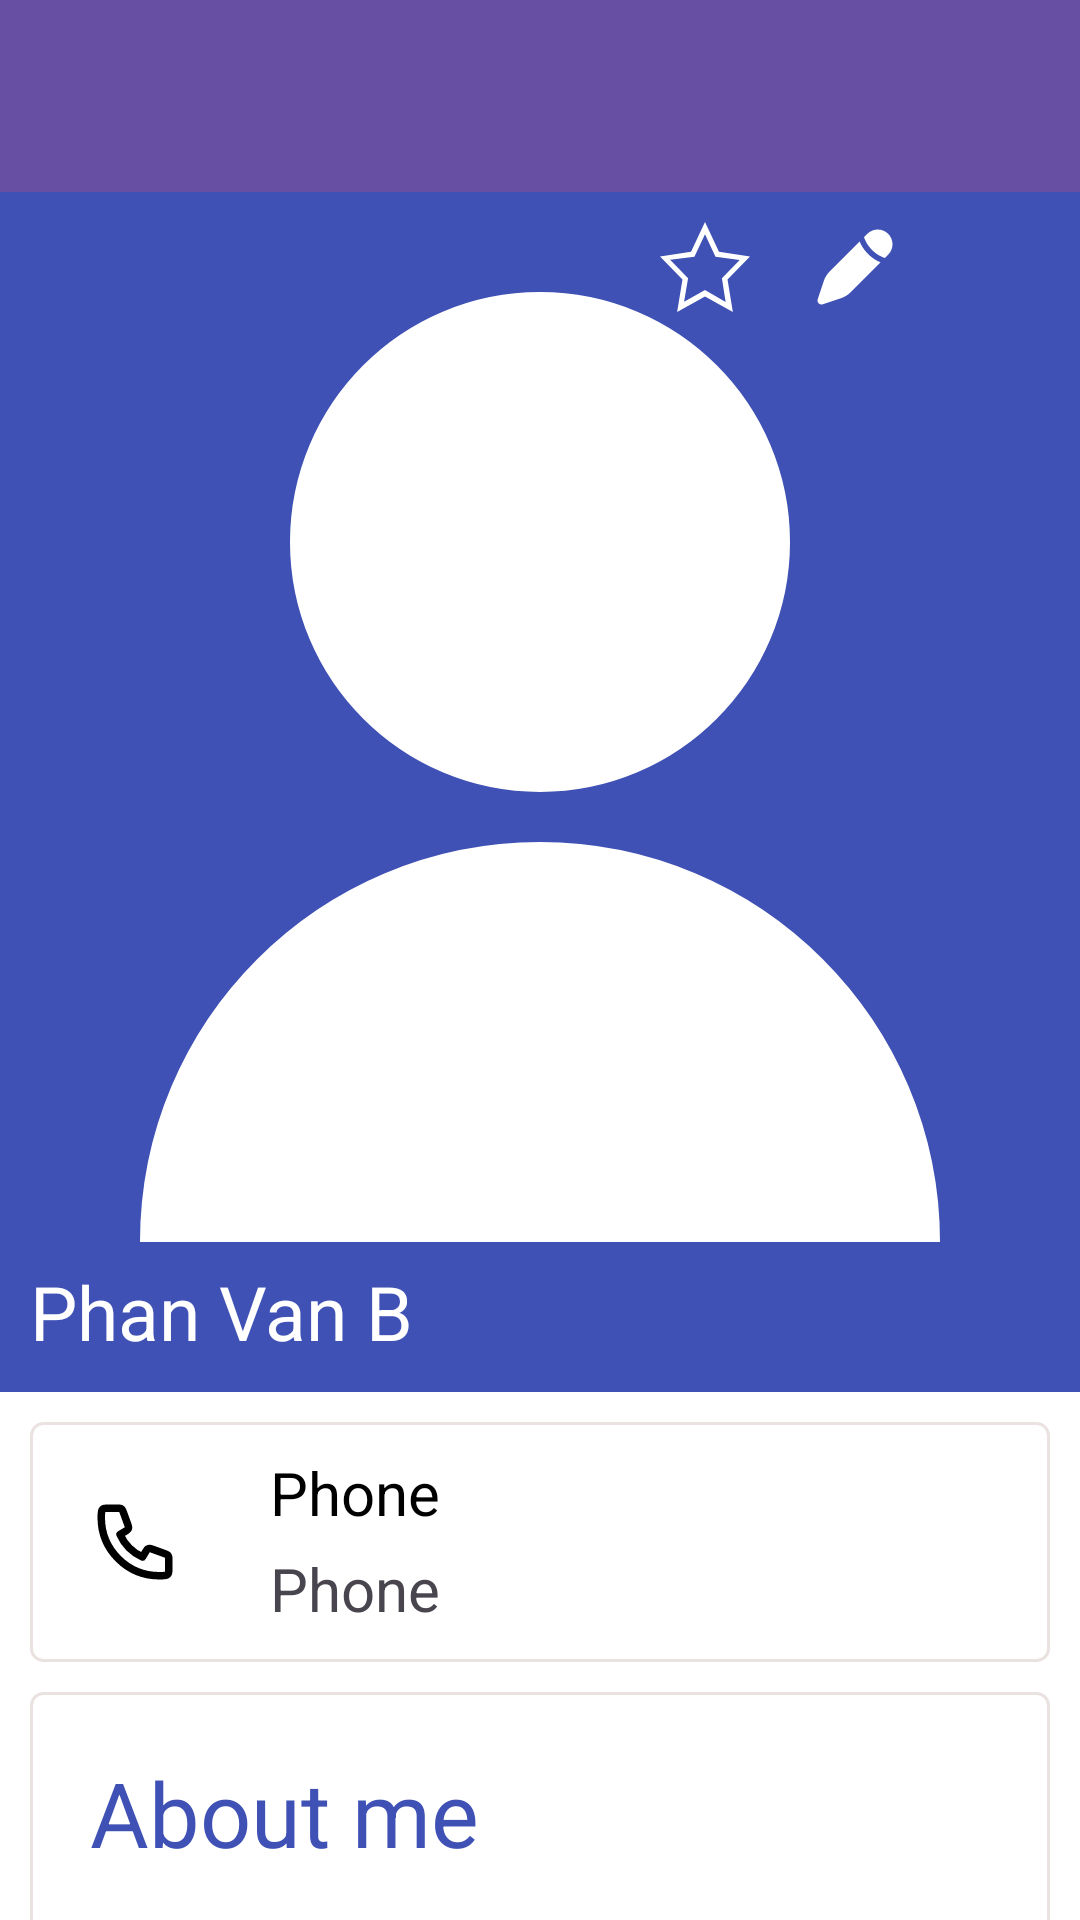

Locate icon controls on the screen. Image size 1080×1920, boxes as Rect(x1, y1, x2, y2).
pen: Rect(817, 229, 893, 305)
star: Rect(660, 222, 750, 312)
